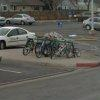Bicycle: (20, 31, 83, 65)
